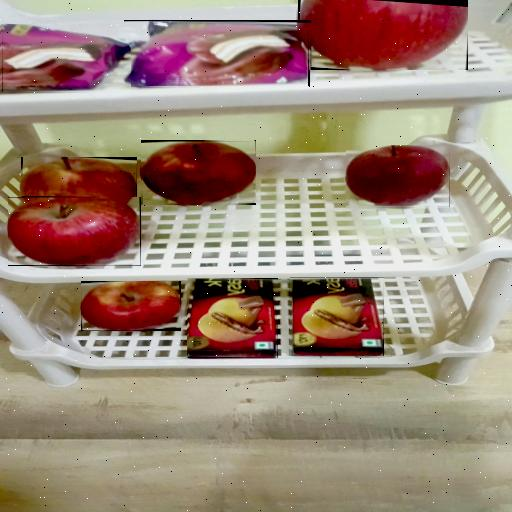Apple: (299, 0, 467, 70), (8, 197, 141, 266), (142, 142, 256, 204), (346, 146, 449, 207), (22, 157, 136, 204), (81, 281, 181, 331)
Choco Fills: (291, 277, 383, 356), (188, 278, 277, 358)
Choco Pie: (124, 21, 308, 86), (2, 24, 130, 92)
